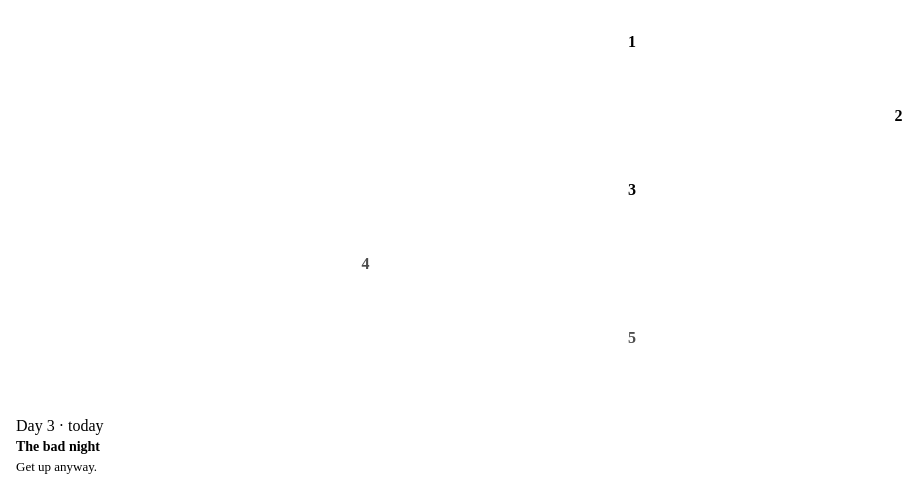
Scenario: what a day is called › describes position, never achievement
The image size is (919, 491).
Click the button named "Day 1" at (632, 42), box x1=607 y1=17 x2=657 y2=67
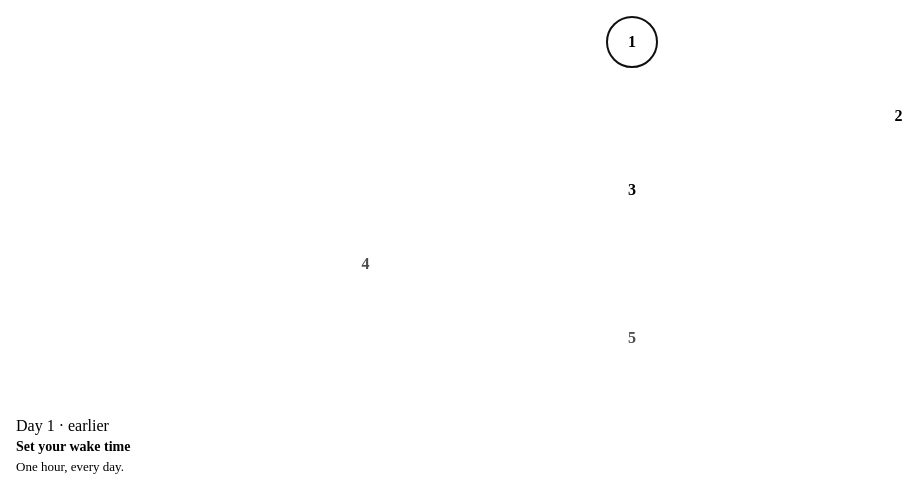
Now the text "Day 1 · earlier" is shown, box x1=16 y1=417 x2=109 y2=434
